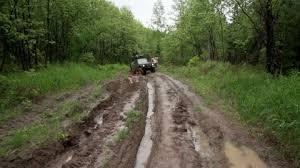vehicle_track: (133, 72, 270, 168), (42, 75, 142, 168)
